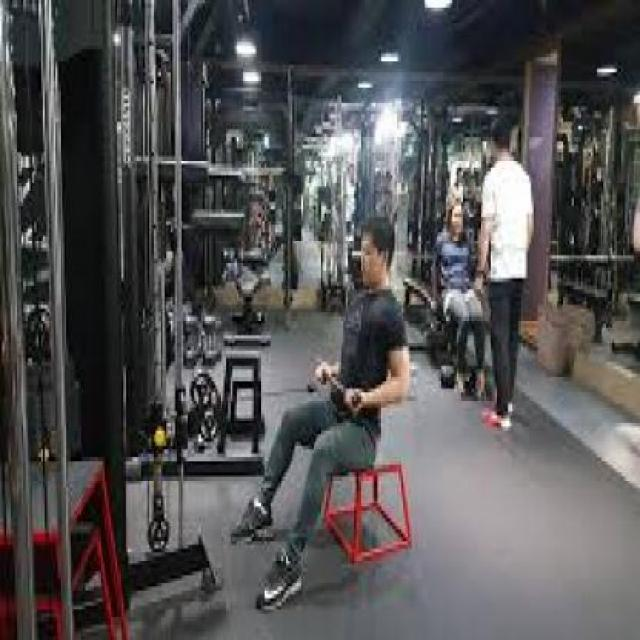Seated Cable Rows: (24, 0, 413, 640)
